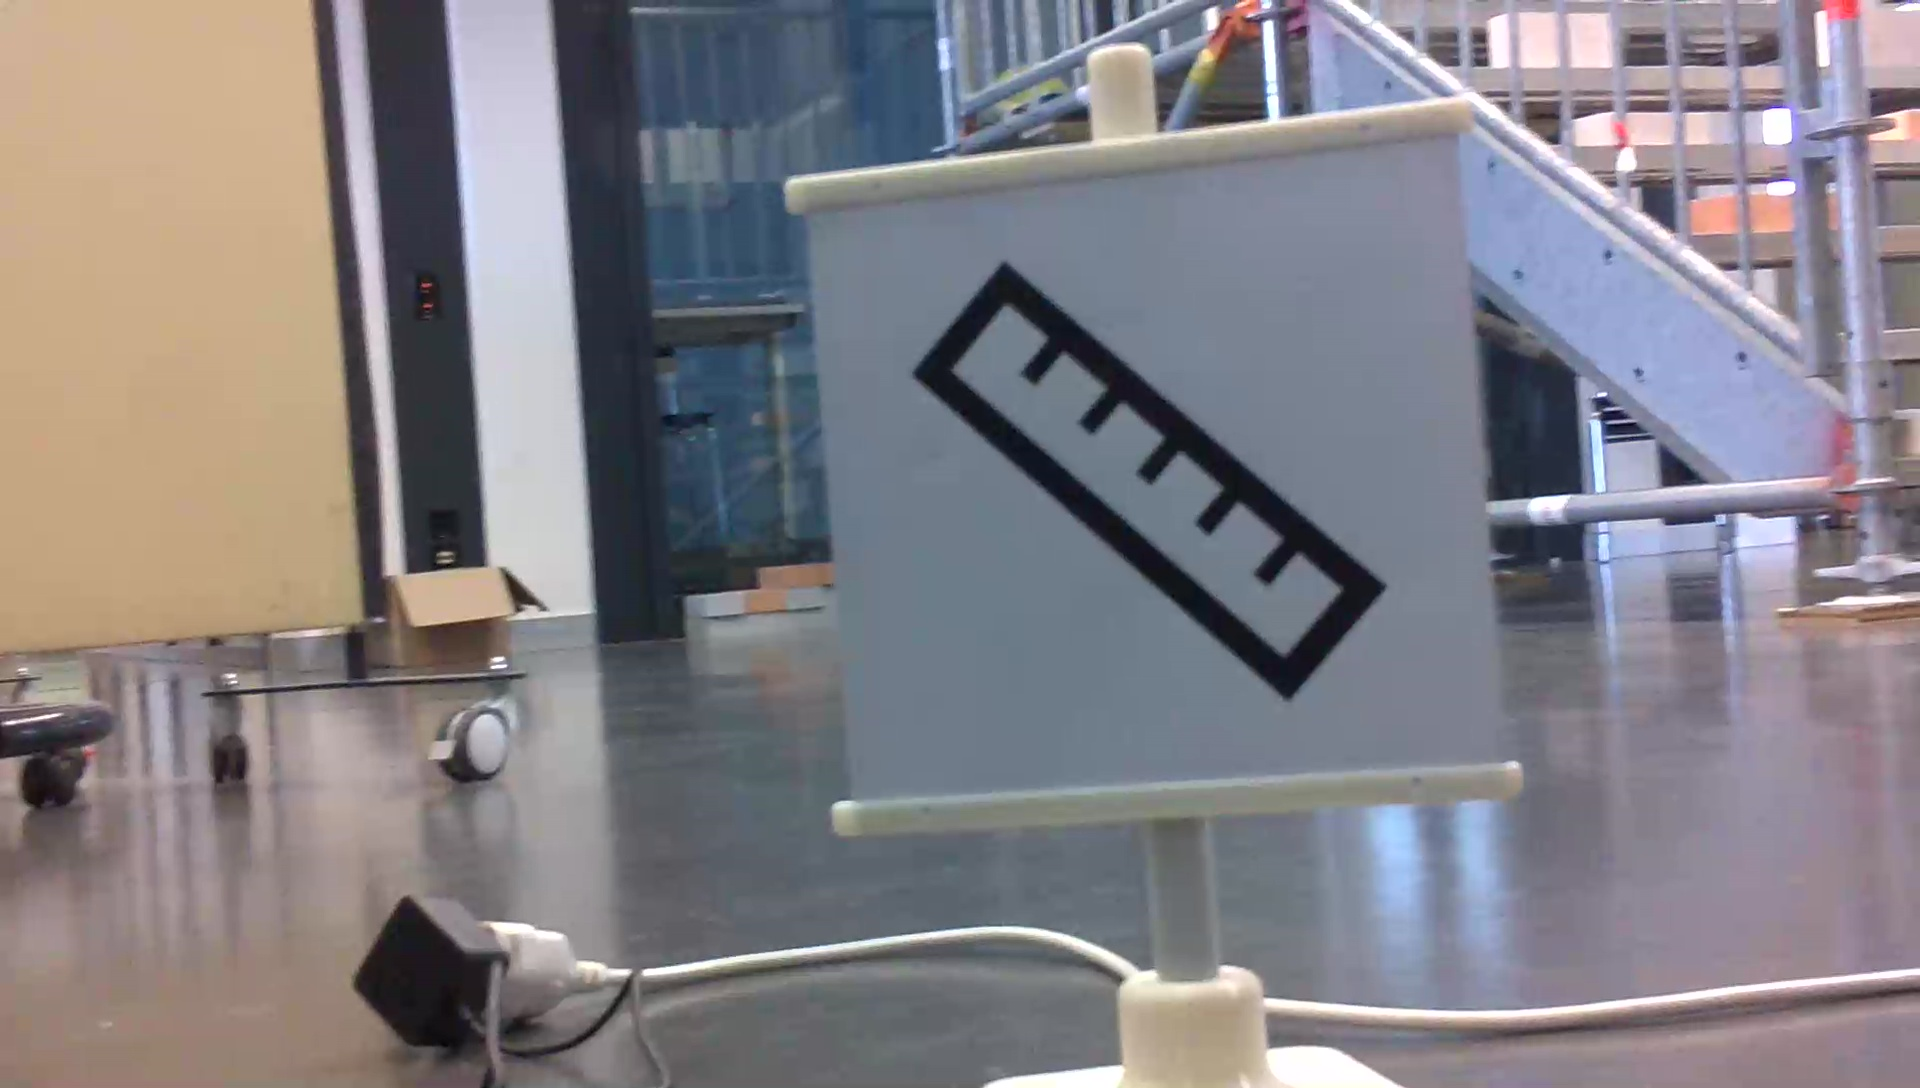ruler: (905, 233, 1400, 710)
